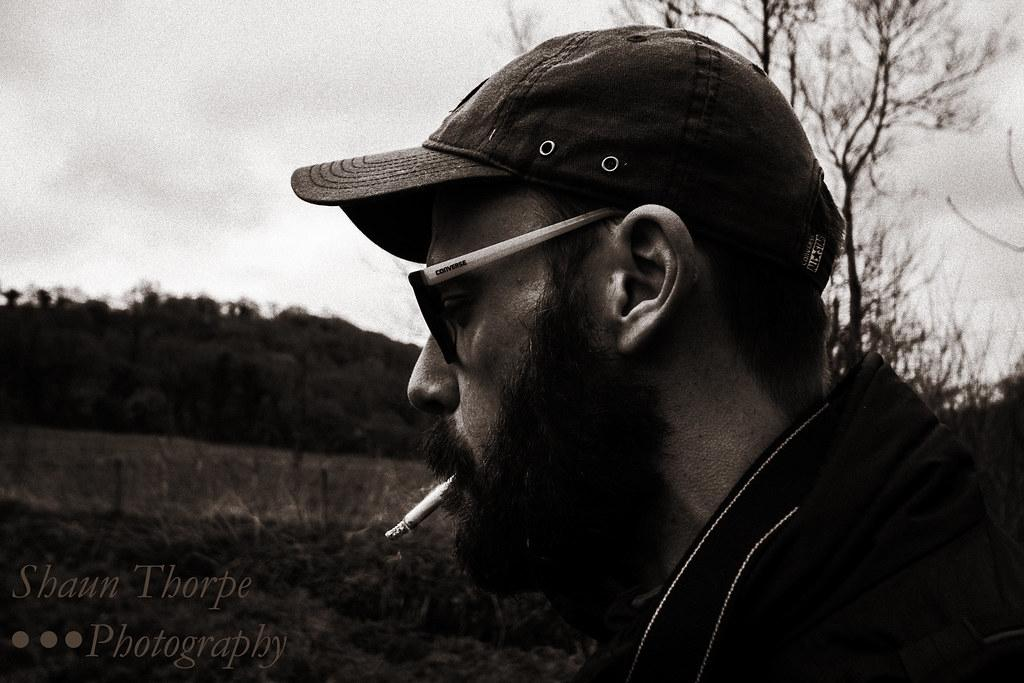cigarette: (381, 469, 458, 546)
